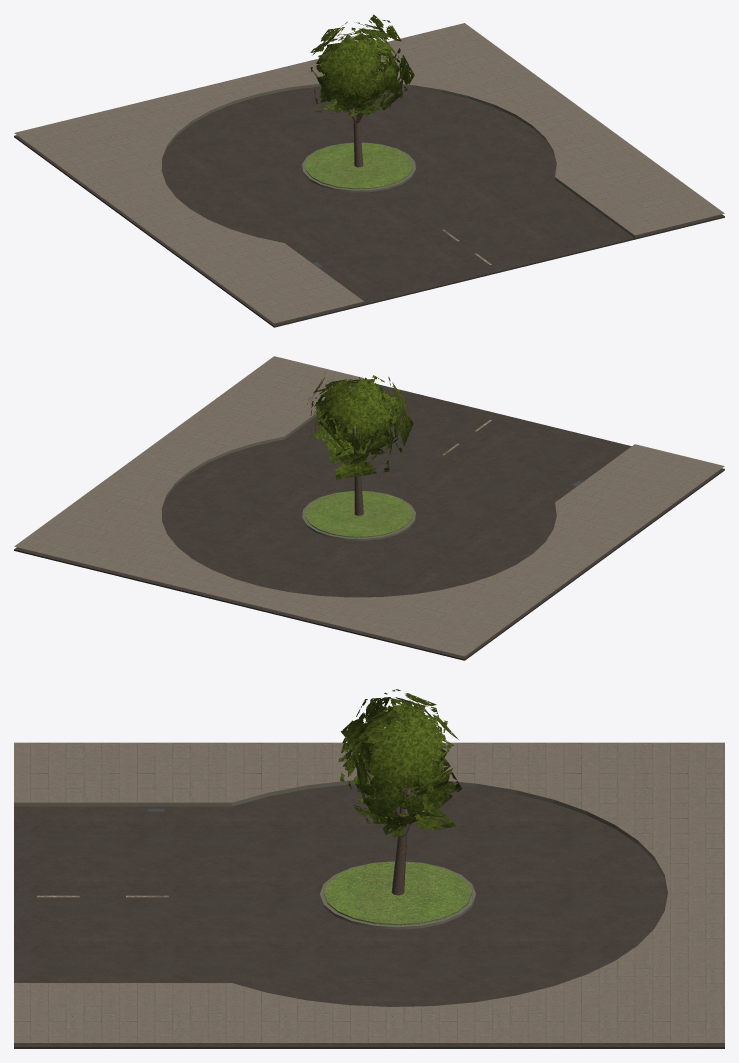
Rendered from road_end.glb.
3 views of the same model, one above another, from view 1: azimuth 30°, elevation 25°; view 2: azimuth 150°, elevation 25°; view 3: azimuth 270°, elevation 25° (orthographic). The views are drawn at different scales.
Parts seen in each view (by area): view 1: road_end_body, road_end_foliage; view 2: road_end_body, road_end_foliage; view 3: road_end_body, road_end_foliage.
Part boxes in pixels (x1,y1,x2,y2): road_end_body: (14, 23, 724, 327); road_end_foliage: (310, 14, 414, 117); road_end_body: (14, 356, 724, 660); road_end_foliage: (307, 373, 413, 479); road_end_body: (14, 742, 724, 1048); road_end_foliage: (338, 689, 461, 836).
Bounding box in the file's own units: 1 × 0.3106 × 1.
9 materials, 8 textured.
